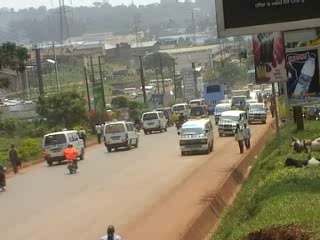Car: (188, 103, 208, 122)
Motorcycle: (63, 143, 80, 176), (0, 160, 12, 194), (131, 115, 143, 135), (172, 108, 179, 130), (179, 109, 187, 127)
